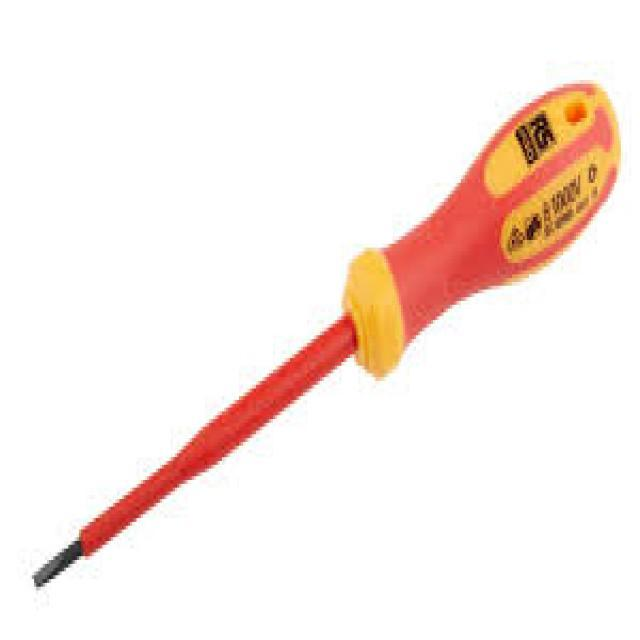screwdriver: (31, 78, 622, 592)
